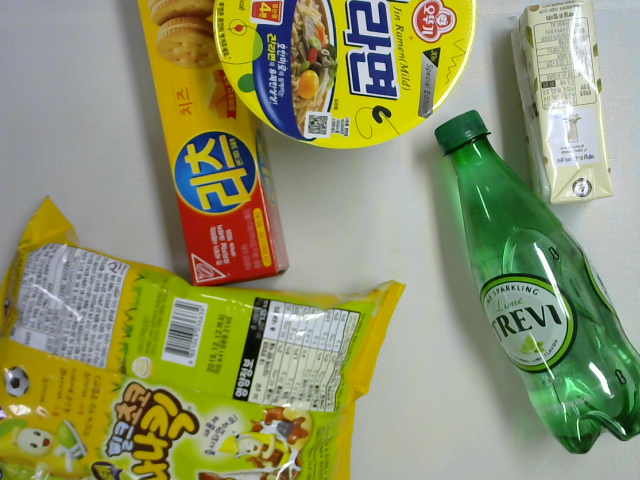99.89_Soymilk: (499, 1, 617, 207)
Banana_Kick: (1, 196, 408, 477)
Jinlamyeon_Mild_Taste_Large_Cup: (211, 1, 480, 152)
Ritz_Sand_Cracker: (133, 1, 292, 293)
Treviraim_500ml: (431, 107, 640, 456)
